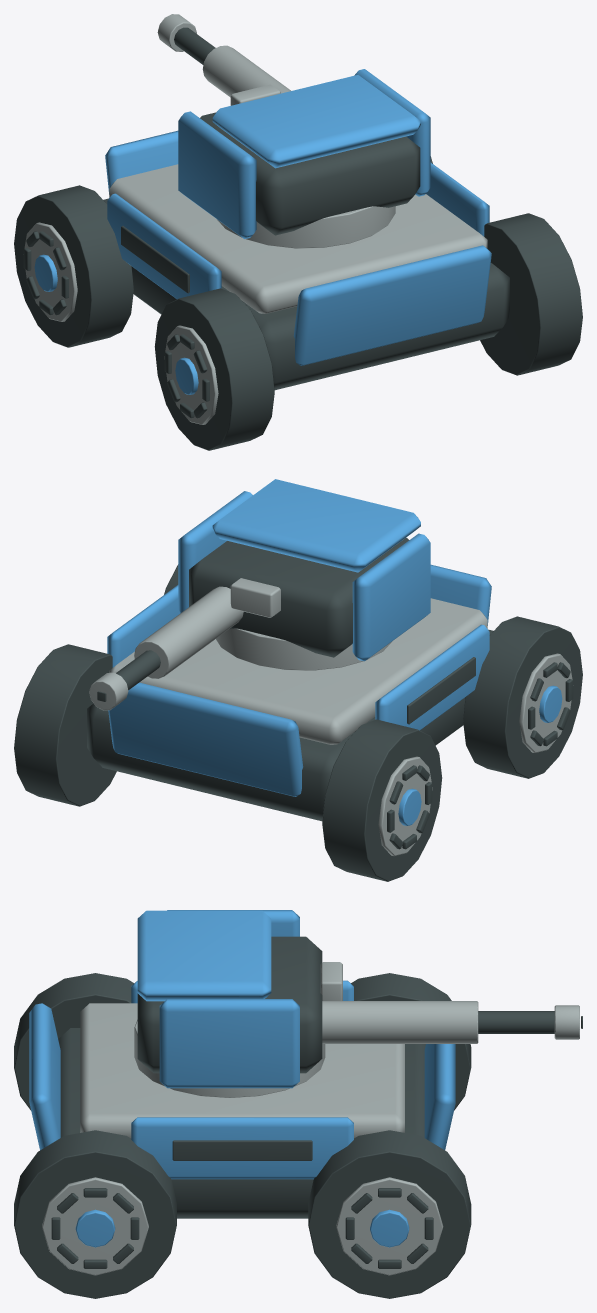
Rendered from robot-blue.glb.
The picture shows the model from 3 angles, top to bottom: view 1: azimuth 30°, elevation 25°; view 2: azimuth 150°, elevation 25°; view 3: azimuth 270°, elevation 25°; orthographic projection. The views are drawn at different scales.
Visible parts, largest first — view 1: infantry-chassis, infantry-armor, infantry-mechanics; view 2: infantry-chassis, infantry-armor, infantry-mechanics; view 3: infantry-chassis, infantry-armor, infantry-mechanics.
Part boxes in pixels (box(x1,y1,x2,y2)): infantry-chassis: box(14, 27, 582, 450); infantry-armor: box(34, 69, 491, 394); infantry-mechanics: box(23, 14, 487, 424); infantry-chassis: box(14, 537, 582, 881); infantry-armor: box(107, 479, 562, 825); infantry-mechanics: box(89, 578, 573, 855); infantry-chassis: box(14, 936, 582, 1298); infantry-armor: box(29, 910, 455, 1247); infantry-mechanics: box(42, 962, 579, 1275).
Bounding box in the file's own units: 0.7 × 0.4575 × 0.8935.
